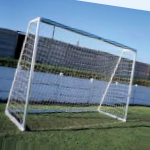goals: (5, 16, 138, 132)
